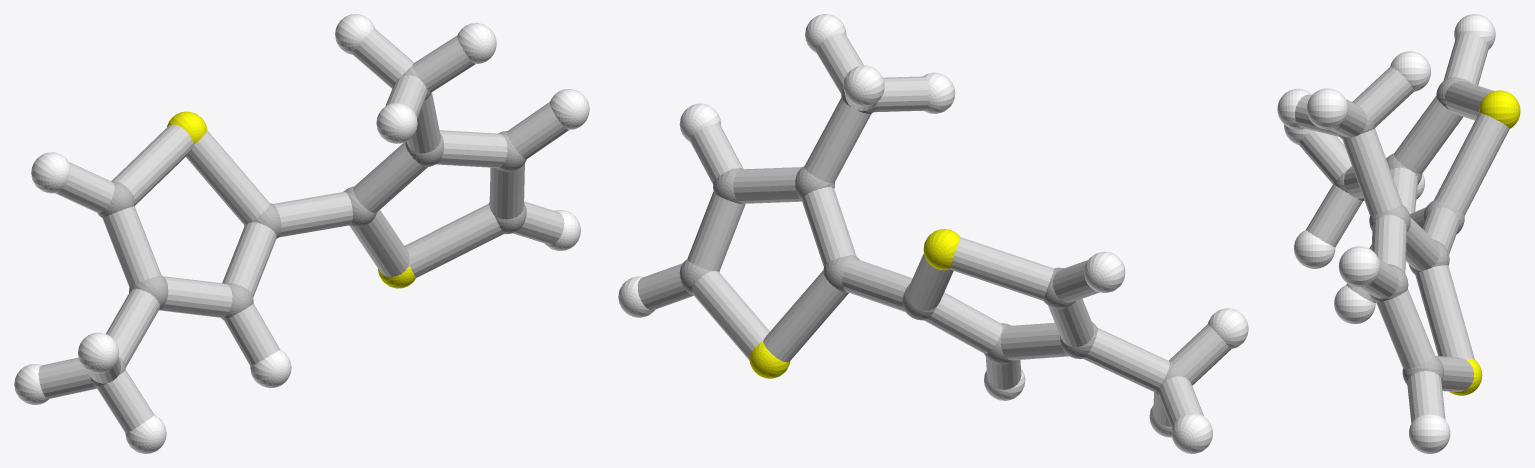
Rendered from Methylthiophene_Phi_15_Theta_60_Methylthiophene.glb.
3 views of the same model, side by side, from view 1: azimuth 30°, elevation 25°; view 2: azimuth 150°, elevation 25°; view 3: azimuth 270°, elevation 25° (orthographic).
Parts seen in each view (by area): view 1: grp7965, grp3621, grp1, grp7241; view 2: grp7965, grp3621, grp1, grp7241; view 3: grp7965, grp3621, grp1, grp7241.
Boxes of the visible parts, left/top/right/bottom form: grp7965: left=38, top=29, right=568, bottom=433; grp3621: left=14, top=14, right=589, bottom=453; grp1: left=90, top=65, right=526, bottom=388; grp7241: left=167, top=111, right=415, bottom=288; grp7965: left=637, top=33, right=1231, bottom=428; grp3621: left=618, top=14, right=1248, bottom=453; grp1: left=679, top=89, right=1183, bottom=397; grp7241: left=749, top=229, right=960, bottom=378; grp7965: left=1295, top=33, right=1509, bottom=423; grp3621: left=1277, top=14, right=1495, bottom=453; grp1: left=1334, top=77, right=1471, bottom=384; grp7241: left=1449, top=90, right=1520, bottom=395.
Bounding box in the file's own units: 9.62 × 5.45 × 3.51.
